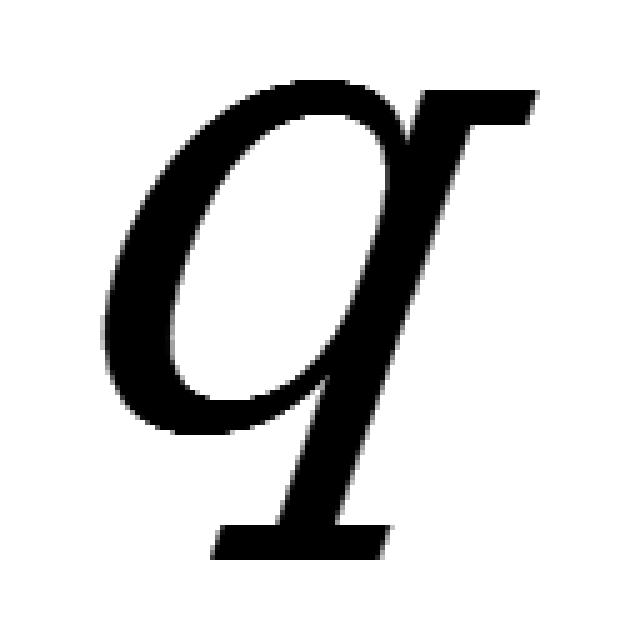Q: (95, 70, 540, 565)
